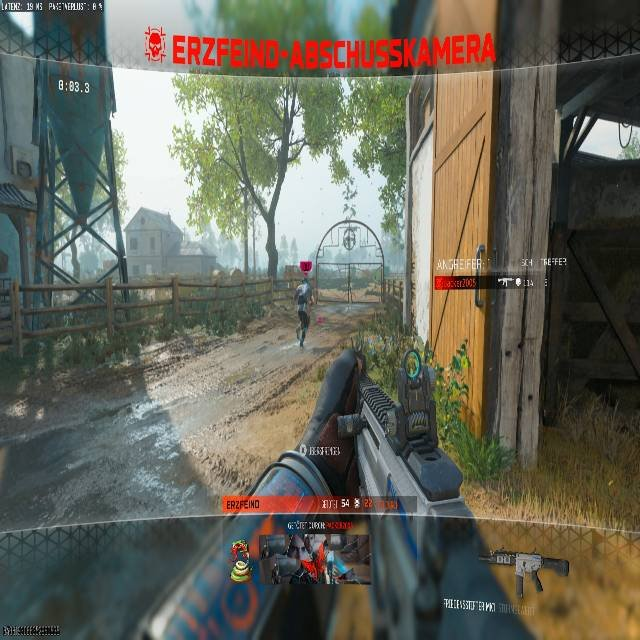player: (294, 277, 314, 348), (294, 278, 312, 312)
